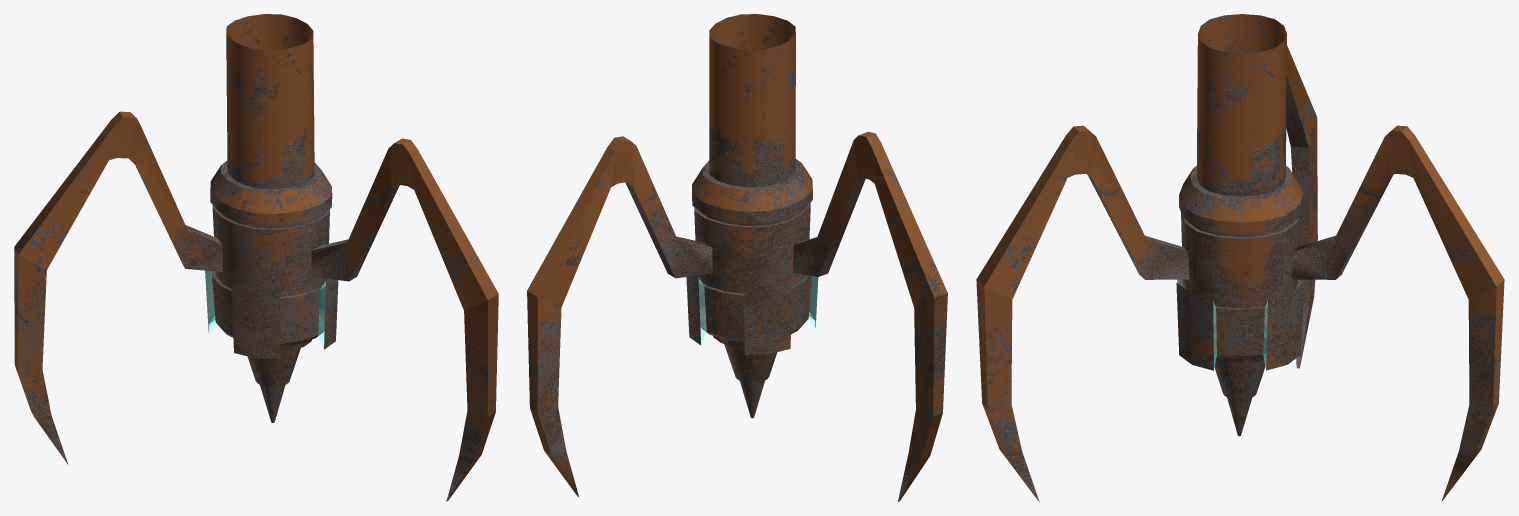
The model's file is miner_machine.fbx.
The picture shows the model from 3 angles, left to right: view 1: azimuth 30°, elevation 25°; view 2: azimuth 150°, elevation 25°; view 3: azimuth 270°, elevation 25°; orthographic projection. The views are drawn at different scales.
Parts seen in each view (by area): view 1: polySurface6.001; view 2: polySurface6.001; view 3: polySurface6.001.
Boxes of the visible parts, left/top/right/bottom form: polySurface6.001: left=14, top=14, right=498, bottom=501; polySurface6.001: left=527, top=14, right=947, bottom=501; polySurface6.001: left=976, top=14, right=1504, bottom=501.
Size of the model in its own units: 1.37 by 1.67 by 1.86.
